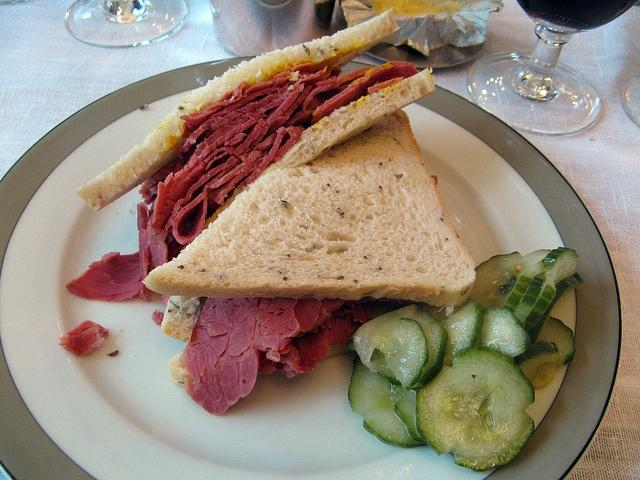cucumber: (415, 344, 536, 472), (348, 362, 428, 448), (370, 308, 448, 382), (469, 249, 551, 312), (525, 247, 578, 332), (420, 300, 484, 366), (374, 318, 430, 391), (528, 274, 584, 344), (481, 308, 532, 358), (513, 340, 559, 390), (391, 384, 427, 444), (538, 317, 576, 365), (514, 272, 546, 324)
